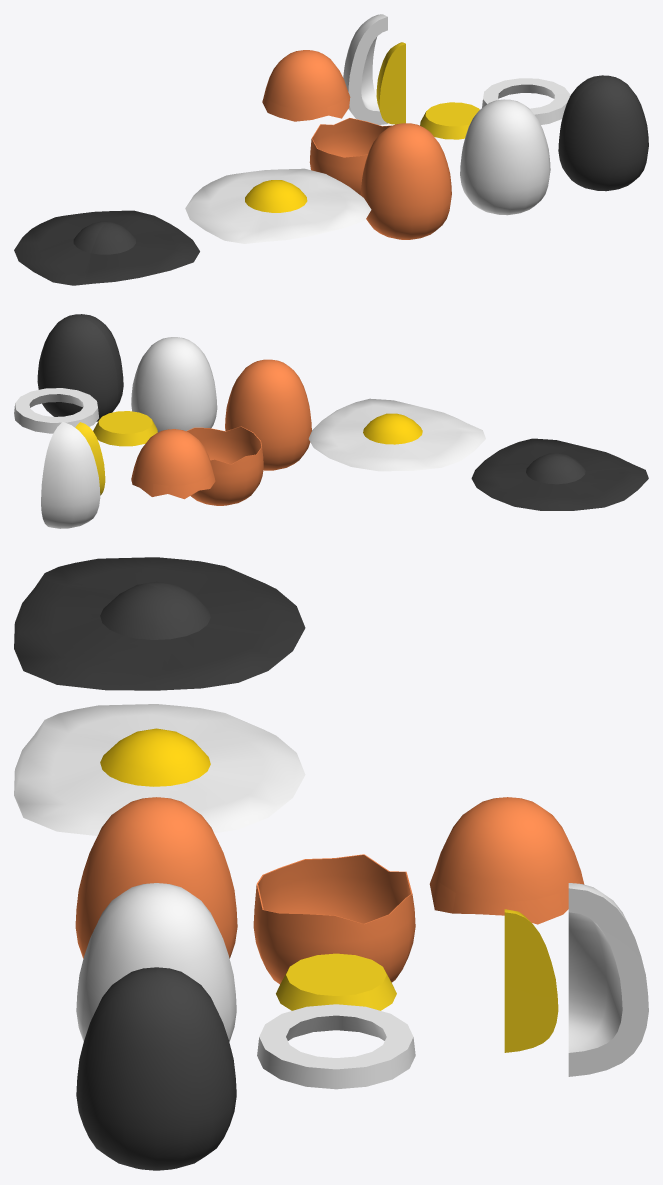
The model's file is egg.fbx.
3 renders of one model, top to bottom at view 1: azimuth 30°, elevation 25°; view 2: azimuth 150°, elevation 25°; view 3: azimuth 270°, elevation 25°, orthographic. The views are drawn at different scales.
Parts seen in each view (by area): view 1: egg_Cooked, egg_Burnt, egg, egg_Boiled_Burnt, egg_Boiled, egg_Shell_Top, egg_Shell_Bottom, egg_Boiled_Sliced_2_White, egg_Boiled_Sliced_2_Yellow, egg_Boiled_Sliced_1_White, egg_Boiled_Sliced_1_Yellow; view 2: egg_Burnt, egg_Cooked, egg, egg_Boiled, egg_Boiled_Burnt, egg_Boiled_Sliced_2_White, egg_Shell_Top, egg_Shell_Bottom, egg_Boiled_Sliced_1_White, egg_Boiled_Sliced_1_Yellow, egg_Boiled_Sliced_2_Yellow; view 3: egg_Burnt, egg_Cooked, egg_Boiled_Burnt, egg_Shell_Bottom, egg_Shell_Top, egg, egg_Boiled, egg_Boiled_Sliced_2_White, egg_Boiled_Sliced_1_White, egg_Boiled_Sliced_2_Yellow, egg_Boiled_Sliced_1_Yellow.
Part boxes in pixels (x1=…): egg_Cooked: x1=185, y1=168, x2=371, y2=243; egg_Burnt: x1=14, y1=210, x2=199, y2=285; egg: x1=360, y1=123, x2=451, y2=239; egg_Boiled_Burnt: x1=558, y1=75, x2=648, y2=191; egg_Boiled: x1=460, y1=99, x2=550, y2=215; egg_Shell_Top: x1=262, y1=50, x2=350, y2=121; egg_Shell_Bottom: x1=309, y1=118, x2=391, y2=194; egg_Boiled_Sliced_2_White: x1=343, y1=14, x2=387, y2=124; egg_Boiled_Sliced_2_Yellow: x1=376, y1=42, x2=405, y2=124; egg_Boiled_Sliced_1_White: x1=482, y1=78, x2=570, y2=124; egg_Boiled_Sliced_1_Yellow: x1=420, y1=102, x2=479, y2=139; egg_Burnt: x1=471, y1=438, x2=648, y2=510; egg_Cooked: x1=308, y1=398, x2=485, y2=471; egg: x1=225, y1=359, x2=311, y2=470; egg_Boiled: x1=131, y1=337, x2=217, y2=432; egg_Boiled_Burnt: x1=37, y1=314, x2=123, y2=421; egg_Boiled_Sliced_2_White: x1=41, y1=422, x2=100, y2=528; egg_Shell_Top: x1=131, y1=429, x2=215, y2=499; egg_Shell_Bottom: x1=186, y1=426, x2=263, y2=505; egg_Boiled_Sliced_1_White: x1=14, y1=388, x2=98, y2=433; egg_Boiled_Sliced_1_Yellow: x1=93, y1=411, x2=157, y2=446; egg_Boiled_Sliced_2_Yellow: x1=75, y1=422, x2=105, y2=495; egg_Burnt: x1=14, y1=557, x2=305, y2=690; egg_Cooked: x1=14, y1=704, x2=305, y2=835; egg_Boiled_Burnt: x1=76, y1=967, x2=236, y2=1170; egg_Shell_Bottom: x1=253, y1=854, x2=415, y2=984; egg_Shell_Top: x1=429, y1=797, x2=584, y2=924; egg: x1=75, y1=797, x2=237, y2=958; egg_Boiled: x1=76, y1=883, x2=236, y2=1041; egg_Boiled_Sliced_2_White: x1=568, y1=883, x2=648, y2=1076; egg_Boiled_Sliced_1_White: x1=257, y1=1004, x2=415, y2=1089; egg_Boiled_Sliced_2_Yellow: x1=504, y1=909, x2=558, y2=1052; egg_Boiled_Sliced_1_Yellow: x1=276, y1=953, x2=396, y2=1010.
Size of the model in its own units: 4.77 by 2.42 by 0.8012.
Materials: 1 (1 with a texture image).
